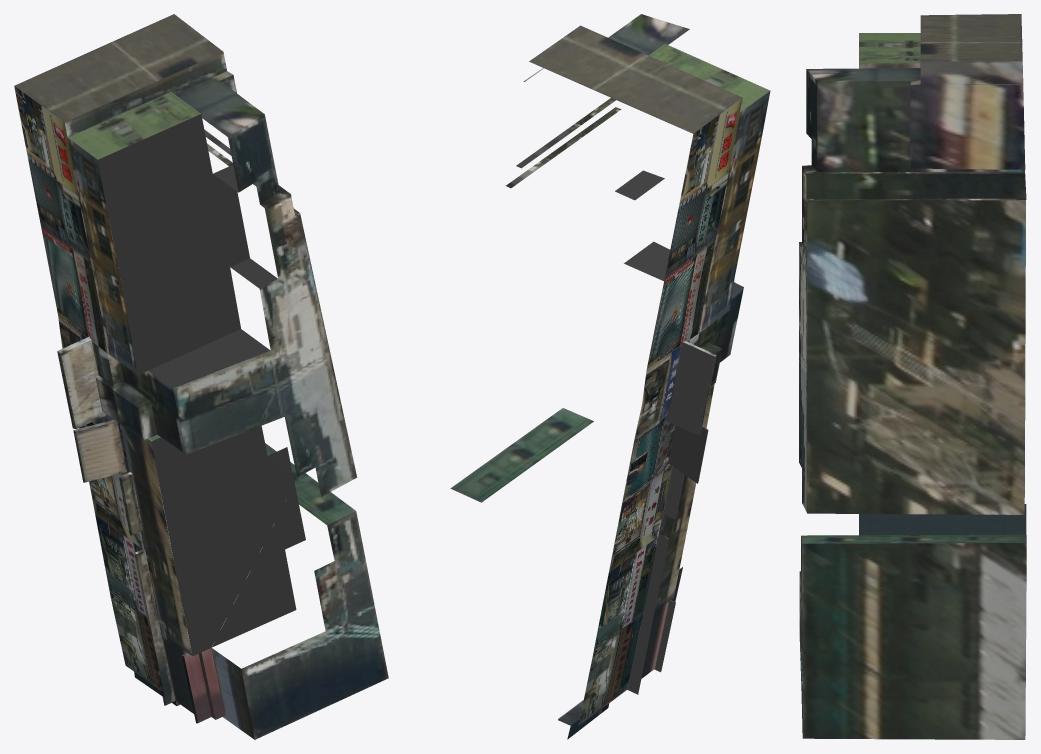
Rendered from input.glb.
3 renders of one model, left to right at view 1: azimuth 30°, elevation 25°; view 2: azimuth 150°, elevation 25°; view 3: azimuth 270°, elevation 25°, orthographic. The views are drawn at different scales.
Parts seen in each view (by area): view 1: B353902007902063A0.gltf; view 2: B353902007902063A0.gltf; view 3: B353902007902063A0.gltf.
Boxes of the visible parts, left/top/right/bottom form: B353902007902063A0.gltf: left=14, top=14, right=388, bottom=739; B353902007902063A0.gltf: left=450, top=14, right=770, bottom=739; B353902007902063A0.gltf: left=799, top=14, right=1026, bottom=739.
Size of the model in its own units: 15.22 by 35.47 by 10.95.
1 material, 1 textured.
